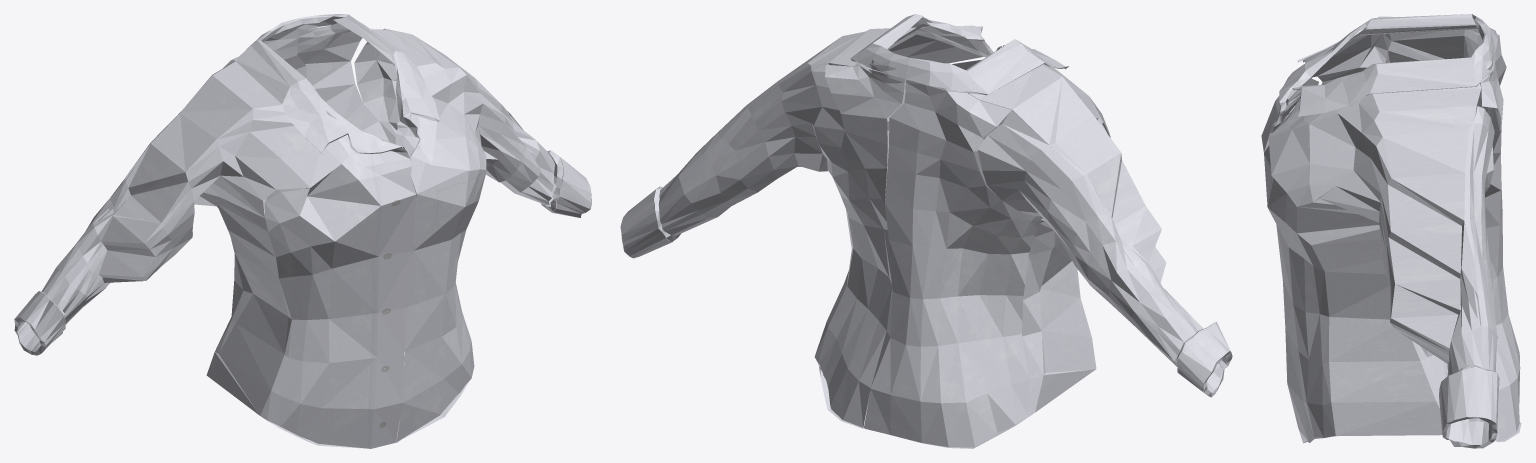
The model's file is shirt_v4.glb.
3 renders of one model, left to right at view 1: azimuth 30°, elevation 25°; view 2: azimuth 150°, elevation 25°; view 3: azimuth 270°, elevation 25°, orthographic. The views are drawn at different scales.
Parts seen in each view (by area): view 1: Shirt_lo_M_cloth_0; view 2: Shirt_lo_M_cloth_0; view 3: Shirt_lo_M_cloth_0.
Part boxes in pixels (<box>): Shirt_lo_M_cloth_0: <box>14,14,591,448</box>; Shirt_lo_M_cloth_0: <box>620,14,1232,448</box>; Shirt_lo_M_cloth_0: <box>1261,14,1521,448</box>.
Size of the model in its own units: 909 by 558 by 336.
Materials: 1 (1 with a texture image).
